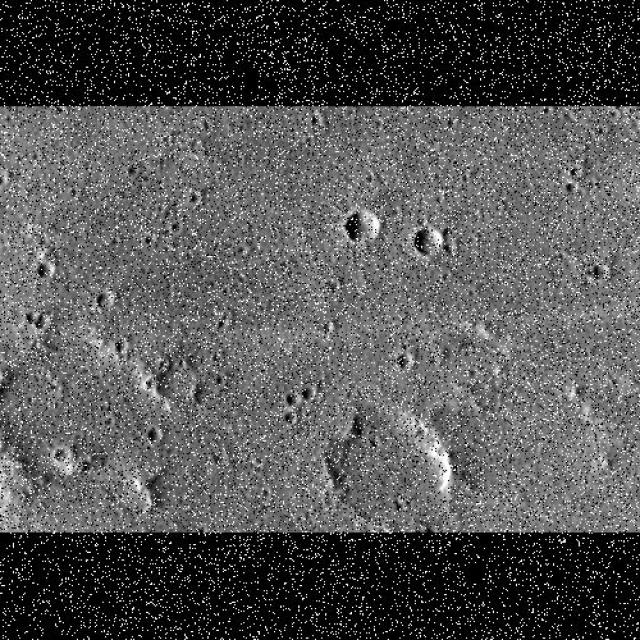crater: (0, 326, 138, 475), (321, 401, 462, 528), (144, 351, 202, 414), (188, 372, 227, 413), (343, 208, 381, 246), (408, 223, 446, 260), (0, 160, 23, 209), (0, 106, 24, 145), (24, 308, 56, 335), (48, 442, 76, 469), (17, 304, 43, 332), (208, 446, 232, 474), (392, 350, 417, 376), (91, 289, 116, 314), (586, 260, 612, 284), (184, 136, 209, 158), (144, 424, 164, 449), (215, 309, 234, 334), (282, 388, 303, 410), (202, 276, 226, 295), (198, 115, 218, 137), (108, 338, 131, 357), (74, 431, 96, 450), (27, 335, 46, 357), (183, 189, 205, 208), (279, 409, 301, 428), (164, 220, 187, 238), (582, 175, 602, 195), (35, 262, 56, 281), (140, 229, 158, 251), (318, 316, 336, 337), (487, 200, 509, 217), (438, 227, 461, 243), (298, 385, 318, 403), (154, 355, 172, 375), (600, 227, 621, 244), (306, 110, 325, 128), (564, 165, 585, 181), (69, 430, 87, 448), (43, 222, 61, 240), (325, 280, 343, 298), (158, 132, 174, 152), (318, 276, 340, 290), (442, 116, 462, 131), (100, 415, 118, 431), (123, 165, 141, 181), (0, 484, 12, 507), (117, 391, 133, 408), (524, 473, 540, 490), (441, 241, 456, 259), (484, 272, 499, 290), (173, 494, 189, 510), (213, 372, 229, 388), (465, 286, 480, 303), (48, 398, 66, 412), (160, 208, 178, 222), (178, 470, 193, 486), (574, 385, 590, 400), (68, 186, 82, 203), (183, 425, 197, 442), (208, 351, 222, 368), (545, 340, 562, 354), (302, 341, 320, 354), (565, 403, 583, 416), (10, 441, 26, 455), (110, 508, 126, 522), (161, 242, 177, 256), (234, 274, 250, 288), (458, 173, 474, 187), (373, 118, 389, 132), (415, 516, 431, 530), (252, 293, 266, 309), (245, 325, 261, 339), (595, 126, 612, 139), (0, 296, 10, 318), (102, 401, 114, 419), (220, 204, 232, 222), (23, 436, 37, 451), (235, 226, 250, 240), (276, 258, 291, 272), (218, 284, 233, 298), (415, 217, 430, 231), (448, 463, 462, 478), (553, 250, 567, 265), (505, 294, 520, 308), (466, 234, 482, 247), (387, 206, 403, 219), (195, 240, 211, 253), (1, 432, 13, 449), (0, 256, 9, 278), (108, 236, 122, 250), (294, 227, 308, 241), (334, 274, 348, 288), (466, 368, 480, 382), (256, 283, 270, 297), (414, 426, 427, 441), (513, 309, 528, 322), (101, 397, 117, 409), (564, 181, 576, 197), (30, 373, 44, 386), (78, 366, 92, 379), (162, 197, 175, 211), (300, 508, 313, 522), (11, 154, 26, 166), (163, 445, 175, 460), (260, 502, 272, 517), (420, 524, 440, 533), (180, 260, 191, 276), (396, 342, 412, 353), (23, 394, 36, 407), (48, 382, 61, 395), (432, 170, 445, 183), (233, 154, 246, 167), (63, 304, 77, 316), (182, 250, 194, 264), (172, 255, 184, 269), (270, 228, 282, 242), (280, 296, 294, 308), (144, 378, 158, 390), (260, 485, 272, 499), (293, 514, 305, 528), (368, 440, 382, 452), (440, 270, 452, 284), (606, 108, 620, 120), (598, 374, 610, 388), (544, 202, 558, 214), (97, 399, 108, 414), (0, 323, 8, 343), (0, 434, 10, 450), (228, 200, 240, 213), (364, 174, 376, 187), (235, 124, 248, 136), (80, 159, 93, 171), (258, 304, 271, 316), (18, 419, 32, 430), (62, 281, 76, 292), (428, 358, 442, 369), (0, 467, 9, 484), (0, 172, 8, 190), (92, 164, 104, 176), (250, 260, 262, 272), (314, 123, 327, 134), (308, 398, 322, 408), (500, 264, 510, 278), (0, 152, 8, 169), (0, 183, 8, 200), (209, 177, 221, 188), (224, 242, 236, 253), (312, 380, 324, 391), (378, 179, 390, 190), (540, 107, 552, 118), (580, 351, 592, 362), (595, 394, 608, 404), (346, 107, 357, 118), (0, 333, 8, 348), (0, 343, 8, 358), (305, 135, 315, 147), (166, 108, 178, 118), (433, 196, 445, 206), (605, 372, 617, 382), (247, 172, 259, 182), (50, 245, 59, 258), (0, 219, 8, 233), (0, 252, 8, 266), (0, 270, 8, 284), (338, 107, 348, 118), (236, 246, 247, 256), (177, 362, 187, 373), (138, 267, 150, 276), (244, 221, 253, 233), (213, 240, 221, 253), (0, 203, 6, 220), (38, 236, 48, 246), (45, 310, 55, 320), (148, 203, 158, 213), (441, 507, 451, 517), (366, 146, 376, 156), (585, 133, 595, 143), (610, 378, 620, 388), (92, 373, 103, 382), (32, 151, 40, 163), (0, 151, 6, 167), (0, 226, 6, 241), (0, 248, 6, 263), (0, 271, 6, 286), (142, 174, 152, 183), (168, 116, 178, 125), (392, 498, 402, 507), (404, 498, 413, 508), (0, 147, 6, 161), (0, 283, 6, 297), (0, 417, 6, 431), (195, 527, 209, 533), (56, 107, 64, 117), (0, 238, 6, 251), (4, 116, 14, 123), (0, 374, 5, 388), (0, 402, 5, 416), (0, 216, 6, 227), (0, 293, 6, 304), (0, 449, 6, 460), (0, 326, 6, 337), (0, 401, 5, 414), (0, 221, 5, 233), (0, 184, 6, 194), (0, 359, 4, 374), (0, 491, 6, 501), (0, 513, 5, 525), (0, 472, 5, 484), (0, 151, 4, 165), (0, 208, 4, 222), (0, 286, 4, 300), (0, 346, 5, 357), (0, 434, 5, 445), (0, 471, 4, 484), (0, 126, 5, 136), (0, 444, 5, 454), (0, 454, 5, 464), (5, 420, 12, 427), (0, 220, 4, 232), (0, 204, 4, 216), (0, 128, 5, 137), (0, 393, 4, 404), (0, 442, 4, 453), (0, 492, 4, 503), (0, 156, 4, 166), (0, 112, 4, 122), (0, 124, 4, 134), (0, 187, 4, 197), (0, 194, 5, 202), (0, 178, 4, 188), (0, 240, 4, 250), (0, 286, 5, 294), (0, 416, 4, 426), (0, 502, 4, 512), (0, 440, 4, 450), (0, 167, 4, 176), (0, 301, 4, 310), (6, 107, 13, 112), (0, 332, 5, 339), (0, 112, 4, 120), (0, 524, 4, 532), (0, 212, 3, 222), (0, 246, 3, 256), (0, 407, 3, 417), (0, 456, 4, 463), (0, 434, 3, 442), (0, 523, 3, 530), (0, 106, 5, 110), (0, 118, 3, 123)
